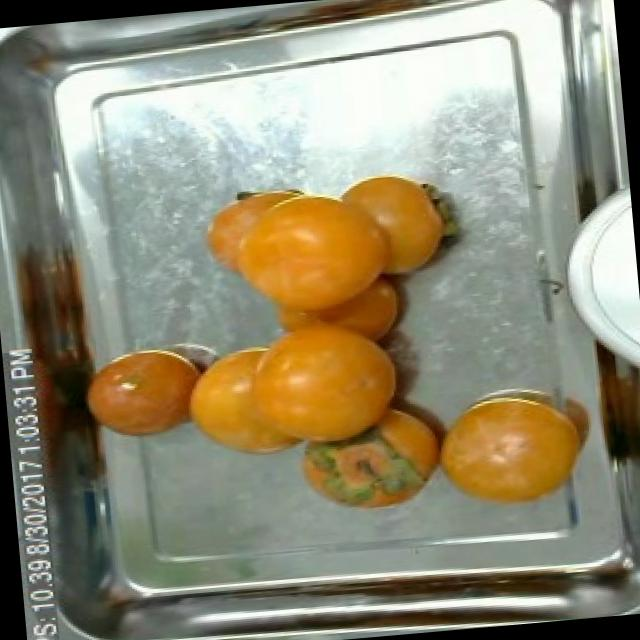Fruit: (420, 368, 608, 523), (283, 395, 456, 523), (324, 155, 474, 295), (183, 337, 325, 468), (71, 338, 218, 448), (574, 316, 640, 471)
